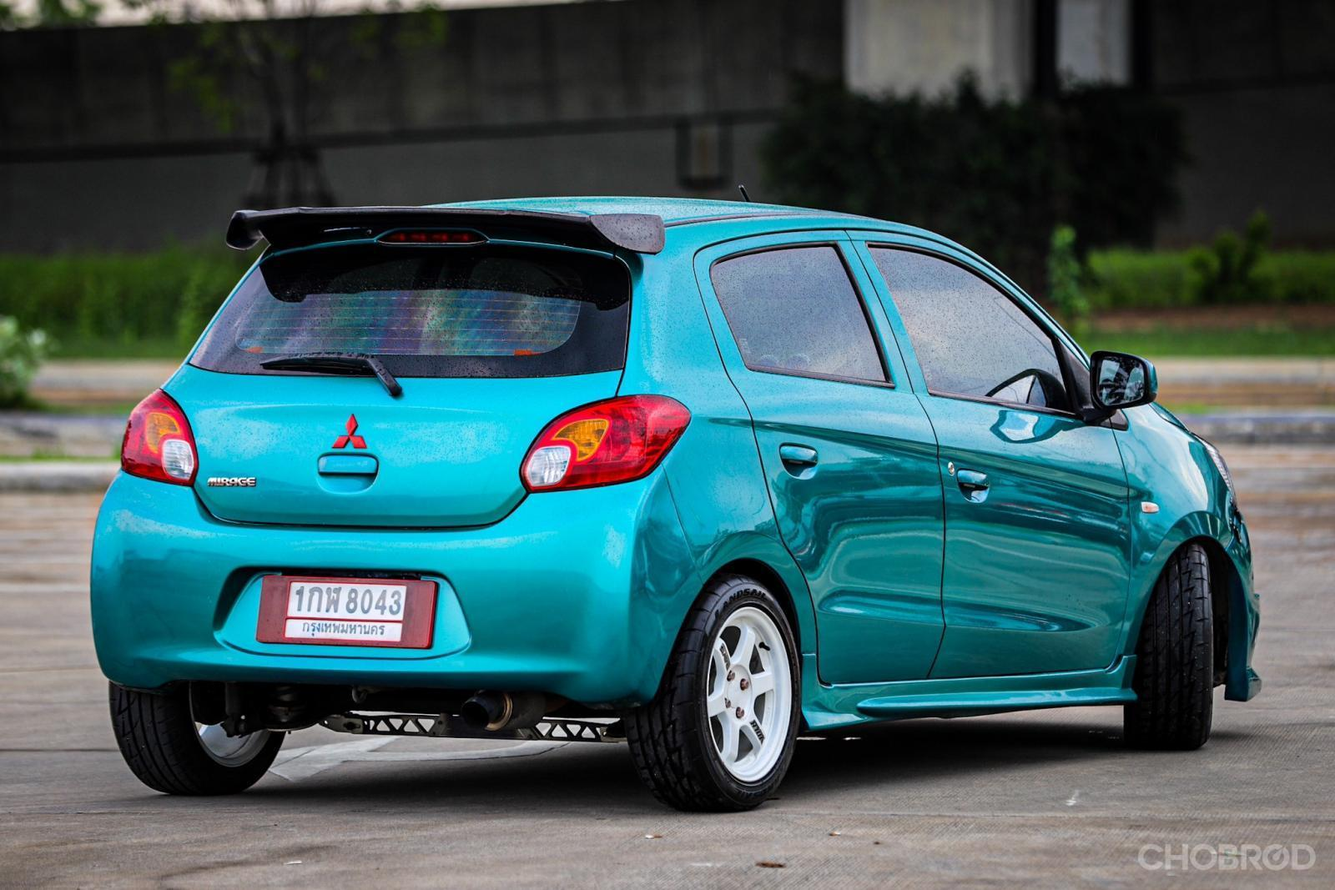license-plate: (259, 573, 436, 651)
